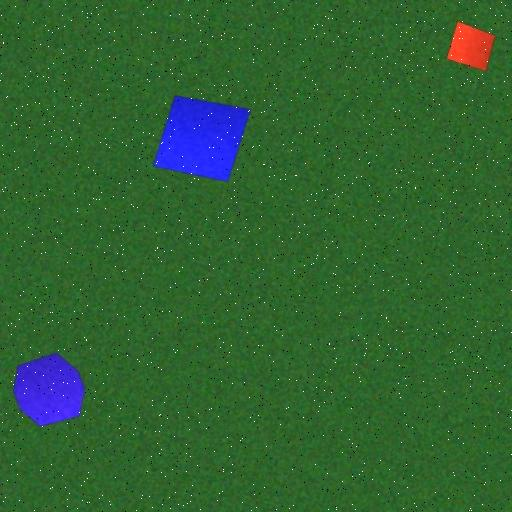BLUE_SQUARE: (152, 94, 252, 182)
RED_SQUARE: (446, 21, 496, 72)
